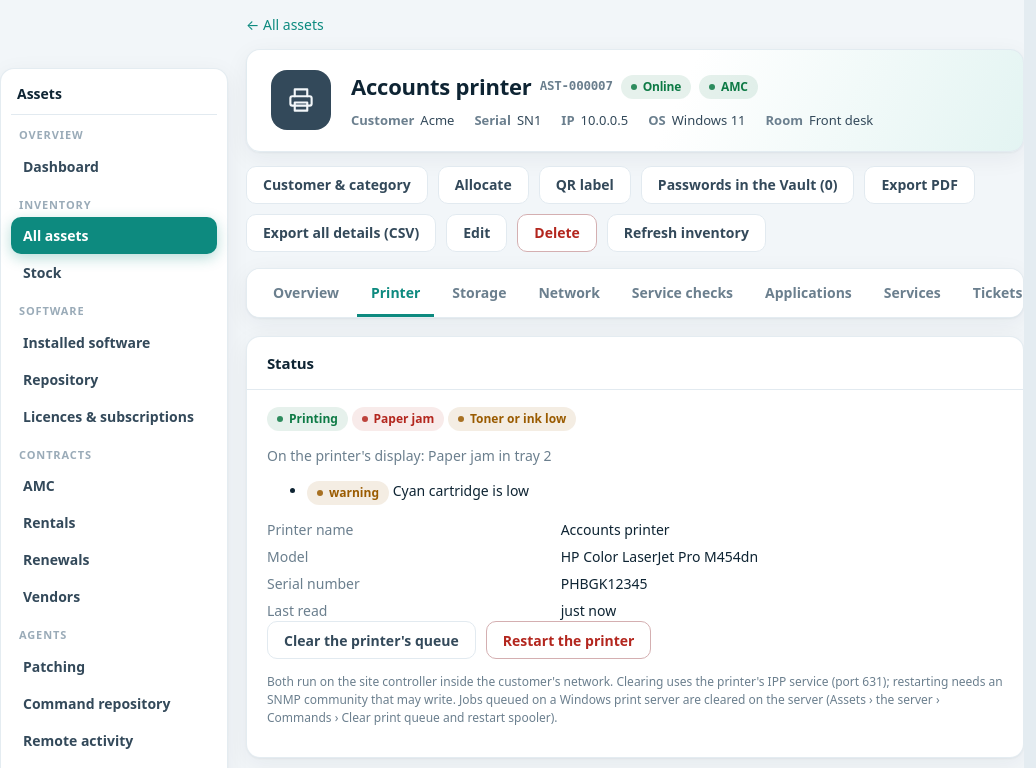
Scenario: a printer shows its status, toner levels, paper and pages, and can clear its queue
Expected: the text "Printing" is shown, [267, 407, 348, 431]
Expected: the text "Paper jam" is shown, [352, 407, 444, 431]
Click the button "Clear the printer's queue".
click(371, 640)  # box [267, 621, 476, 659]
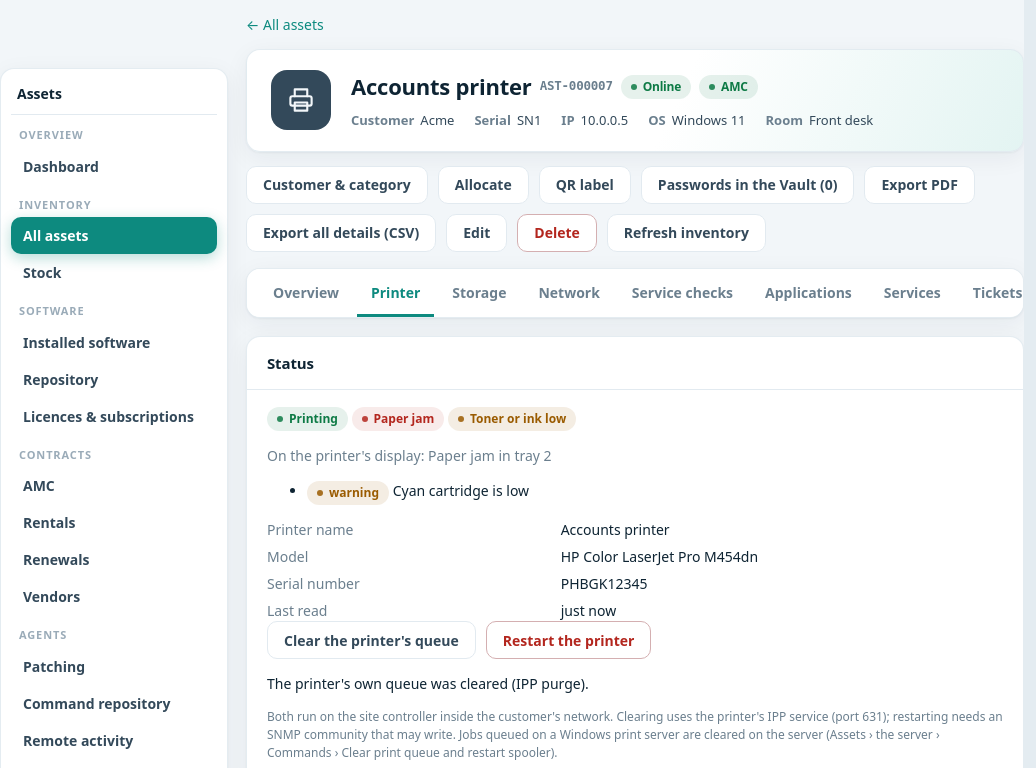
Expected: the text "The printer's own queue was cleared (IPP purge)." is shown, [267, 674, 589, 693]
